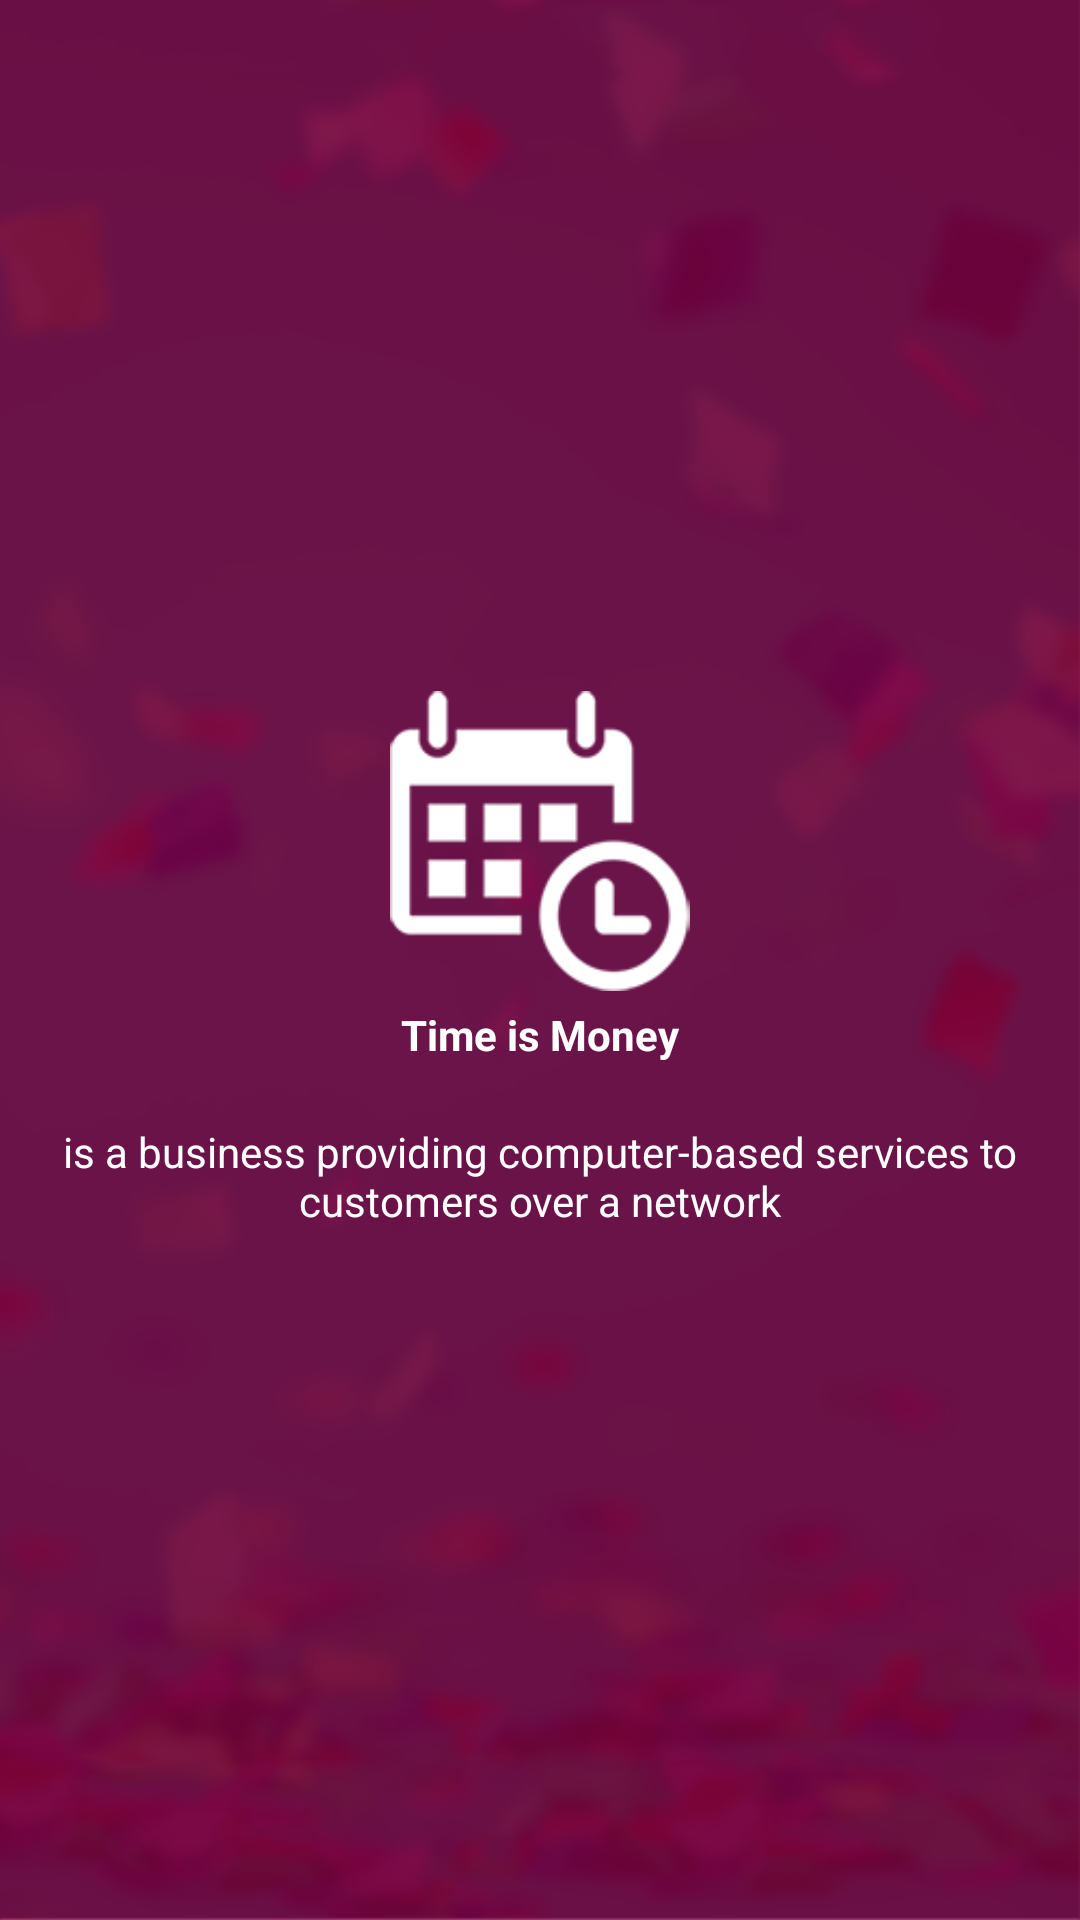

Icon bounding boxes for this 1080*1920 phone screenshot, format [x1, y1, x2, y2]:
calender: [390, 691, 690, 991]
